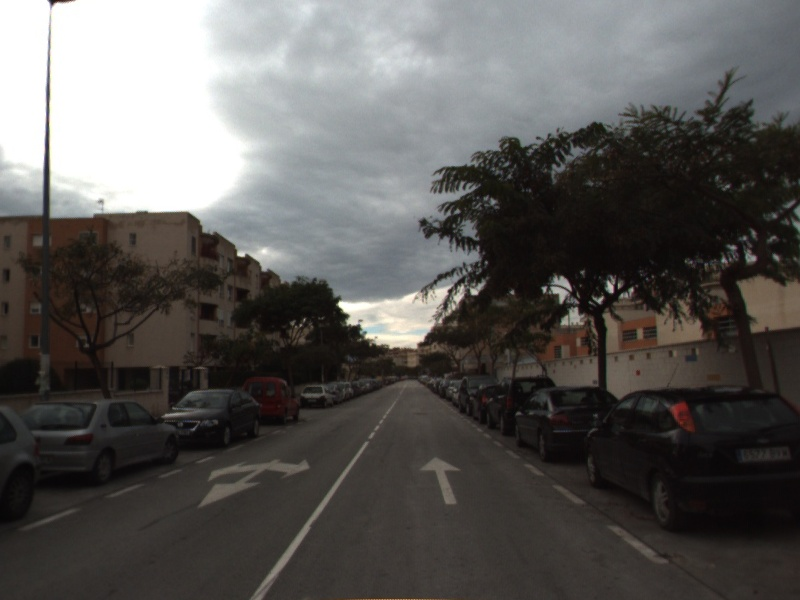STRAIGHT: (417, 455, 463, 506)
